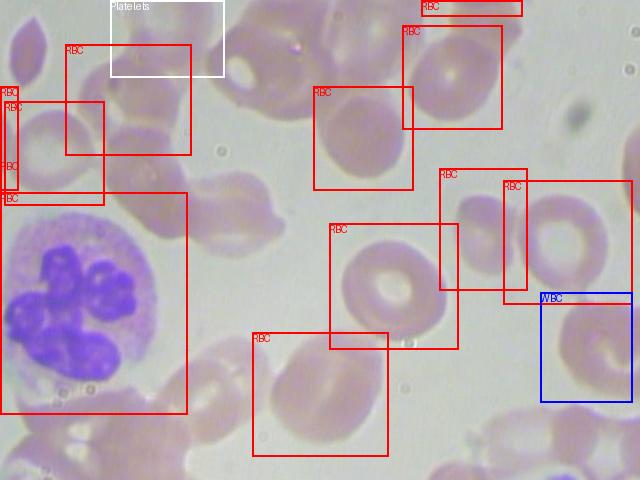Platelets: (110, 0, 224, 77)
RBC: (0, 192, 187, 414), (252, 332, 388, 456), (329, 223, 458, 349), (503, 180, 632, 304), (65, 44, 191, 155), (439, 168, 527, 290), (4, 101, 104, 205), (313, 86, 413, 190), (402, 25, 502, 129), (0, 86, 18, 190), (421, 0, 522, 16), (0, 160, 1, 382)
WBC: (540, 292, 632, 402)
